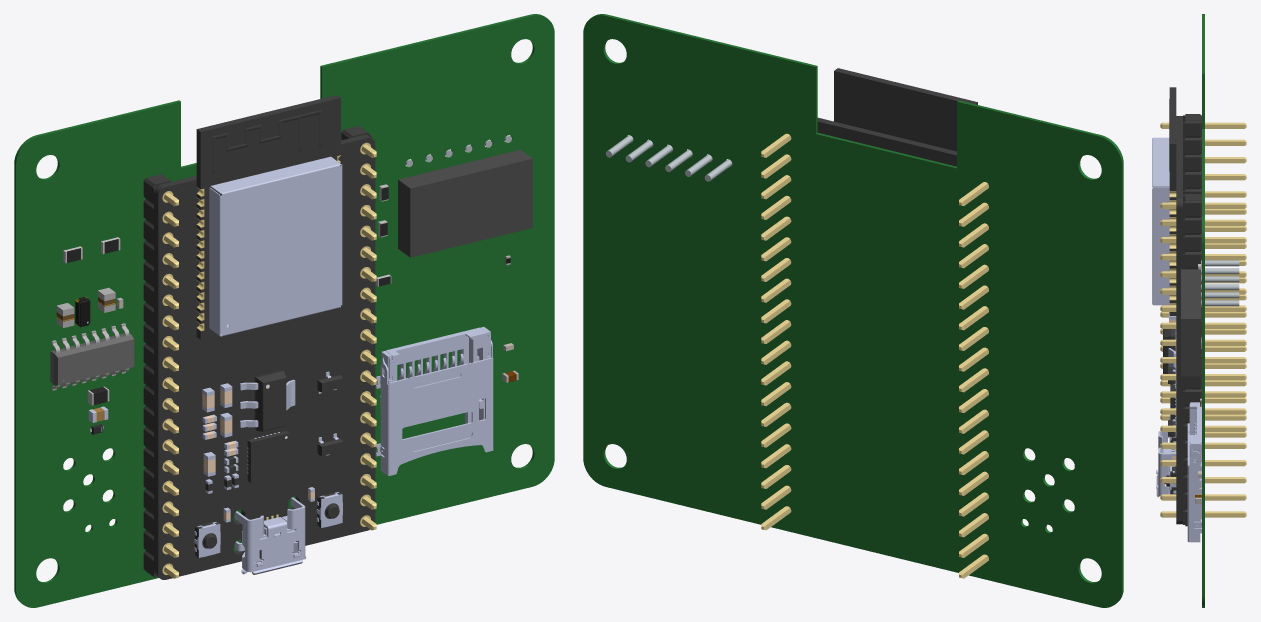
Rendered from eNav.glb.
3 renders of one model, left to right at view 1: azimuth 30°, elevation 25°; view 2: azimuth 150°, elevation 25°; view 3: azimuth 270°, elevation 25°, orthographic. The views are drawn at different scales.
Visible parts, largest first — view 1: PCB, NAUO1, NAUO4, =>[0:1:1:2], NAUO3, NAUO5, NAUO2, NAUO11, NAUO9, NAUO8, NAUO6, NAUO7 (+1 smaller); view 2: PCB, NAUO4, NAUO2, NAUO3, NAUO1, =>[0:1:1:3]; view 3: NAUO2, NAUO3, NAUO4, PCB, NAUO1, =>[0:1:1:2], =>[0:1:1:3], NAUO5, NAUO9, NAUO10, NAUO7, NAUO8.
Part boxes in pixels (x1,y1,x2,y2): PCB: [14, 14, 554, 607]; NAUO1: [154, 135, 375, 579]; NAUO4: [196, 95, 342, 339]; =>[0:1:1:2]: [398, 149, 532, 257]; NAUO3: [143, 174, 178, 578]; NAUO5: [235, 497, 306, 574]; NAUO2: [341, 126, 376, 530]; NAUO11: [202, 383, 314, 522]; NAUO9: [240, 370, 295, 431]; NAUO8: [247, 430, 289, 482]; NAUO6: [194, 521, 220, 557]; NAUO7: [316, 491, 342, 527]; PCB: [583, 14, 1123, 607]; NAUO4: [834, 68, 977, 151]; NAUO2: [761, 133, 791, 530]; NAUO3: [959, 182, 988, 578]; NAUO1: [817, 117, 956, 166]; =>[0:1:1:3]: [605, 135, 732, 181]; NAUO2: [1160, 194, 1246, 526]; NAUO3: [1160, 114, 1246, 437]; NAUO4: [1152, 87, 1176, 315]; PCB: [1187, 14, 1204, 607]; NAUO1: [1176, 116, 1182, 524]; =>[0:1:1:2]: [1181, 269, 1201, 376]; =>[0:1:1:3]: [1201, 260, 1239, 306]; NAUO5: [1156, 430, 1176, 497]; NAUO9: [1163, 329, 1176, 373]; NAUO10: [1168, 366, 1176, 437]; NAUO7: [1166, 466, 1176, 494]; NAUO8: [1170, 381, 1176, 422].
Size of what is drawn, in the model's own units: 0.0692 by 0.0578 by 0.0127.
